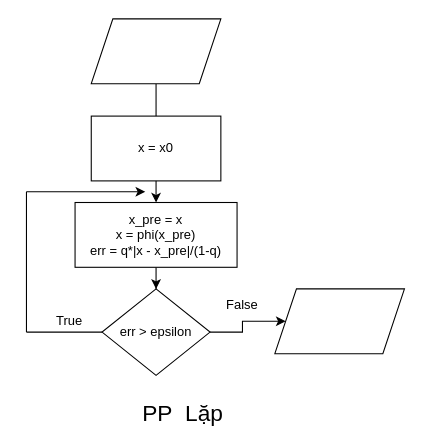
Image size: 423x448. Some labels were removed from this diagram. Each missing label, with the centre of its shape:
Input: x0, q, epsilon: point 155,51
Output: x: point 339,321
